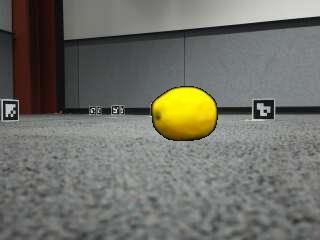lemon: (152, 88, 216, 141)
